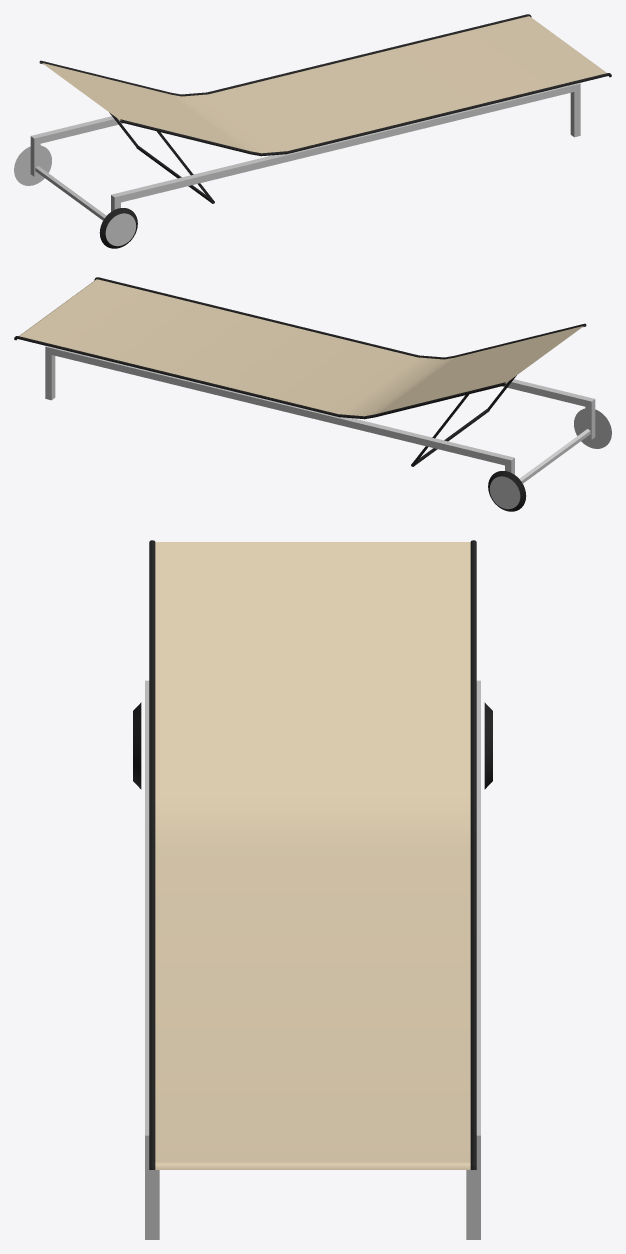
Rendered from SunBed.fbx.
3 renders of one model, top to bottom at view 1: azimuth 30°, elevation 25°; view 2: azimuth 150°, elevation 25°; view 3: azimuth 270°, elevation 25°, orthographic. The views are drawn at different scales.
Parts seen in each view (by area): view 1: Cube; view 2: Cube; view 3: Cube.
Boxes of the visible parts, x1,y1,x2,y2 form: Cube: [14, 14, 611, 248]; Cube: [14, 277, 611, 511]; Cube: [133, 540, 492, 1239].
Size of the model in its own units: 740 by 174 by 224.
